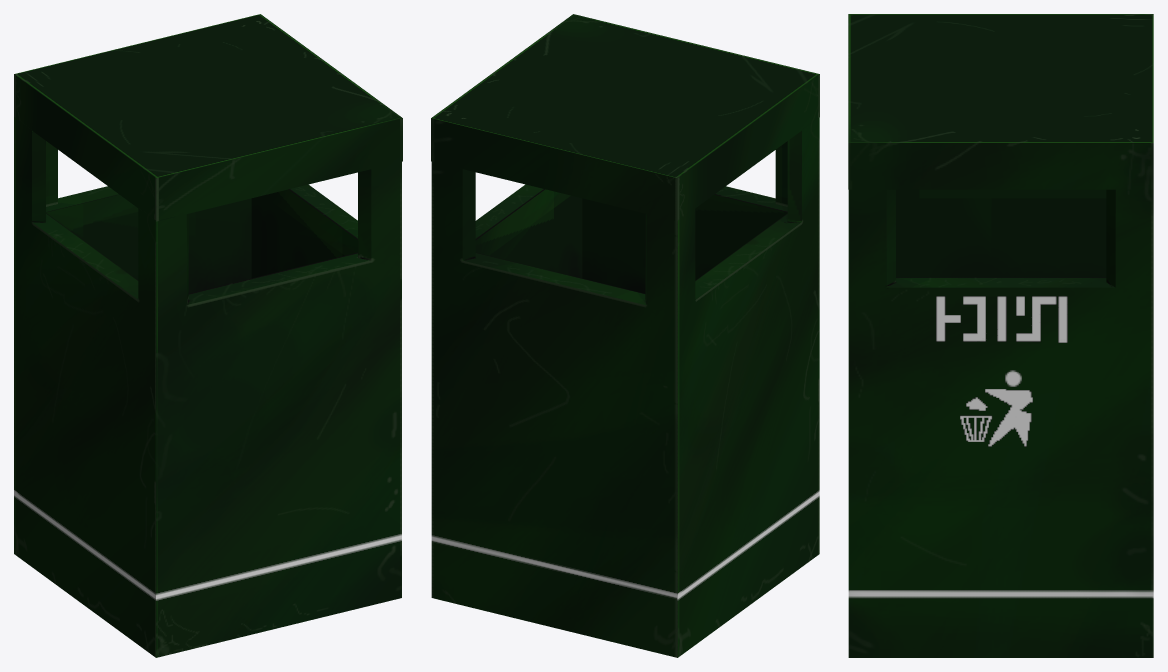
File: parkbin.fbx
3 renders of one model, left to right at view 1: azimuth 30°, elevation 25°; view 2: azimuth 150°, elevation 25°; view 3: azimuth 270°, elevation 25°, orthographic. The views are drawn at different scales.
Parts seen in each view (by area): view 1: Plane; view 2: Plane; view 3: Plane.
Part boxes in pixels (x1,y1,x2,y2): Plane: (14, 14, 402, 657); Plane: (431, 14, 819, 657); Plane: (848, 14, 1153, 657).
Size of the model in its own units: 68.04 by 127 by 68.02.
